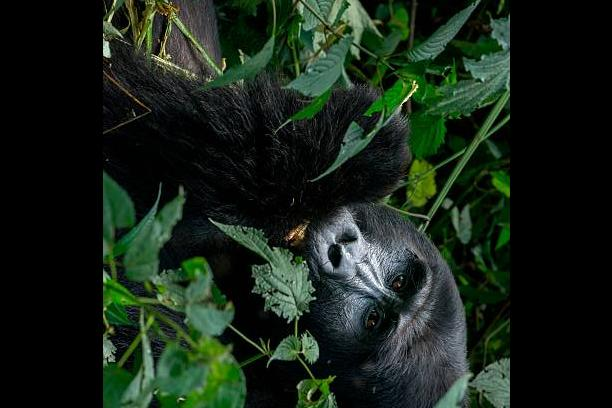goriile_montagne: (172, 109, 458, 408)
